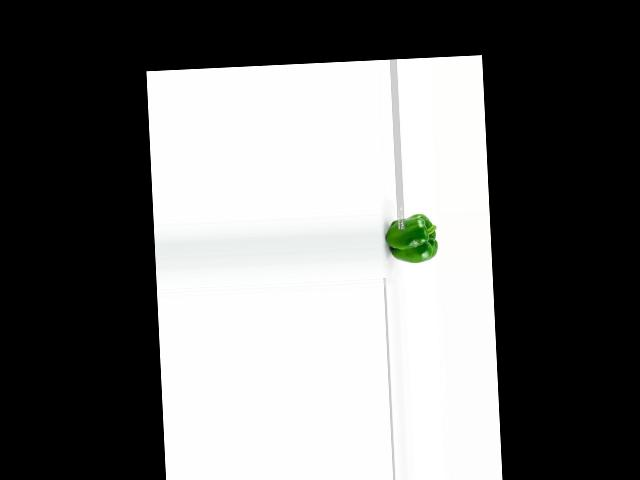bell_pepper: (382, 213, 441, 266)
